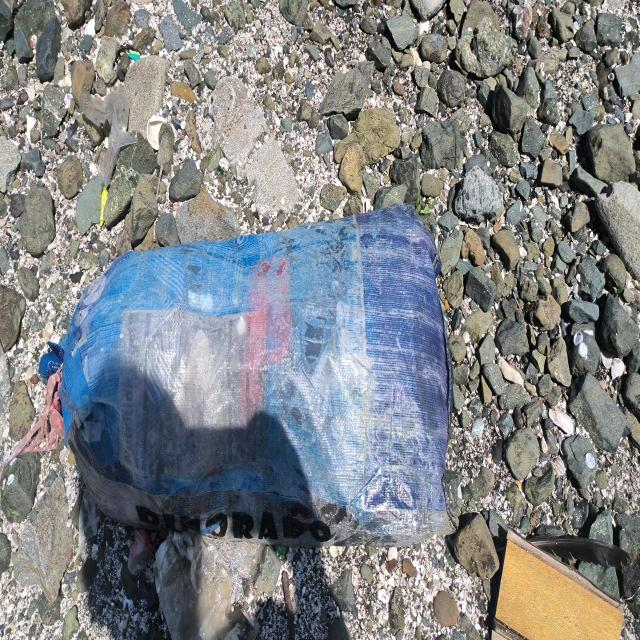plastic_waste: (62, 205, 454, 548)
